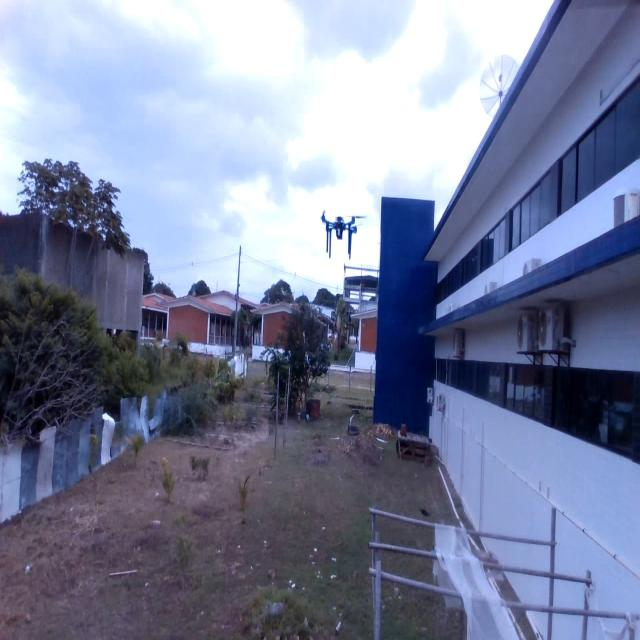-uav-: (310, 198, 366, 260)
